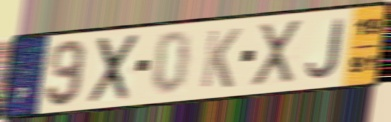0: (151, 29, 194, 98)
9: (45, 37, 88, 109)
J: (305, 16, 345, 81)
K: (198, 27, 244, 91)
X: (85, 31, 142, 106), (250, 18, 303, 90)
